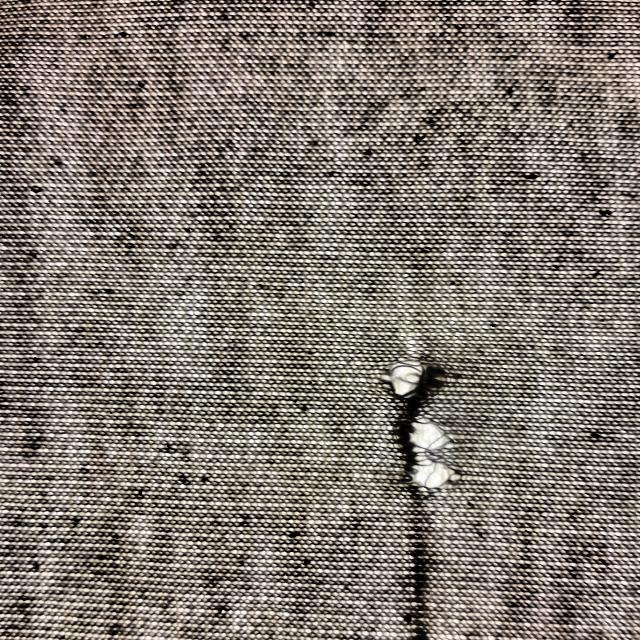Hole: (383, 411, 472, 501), (366, 339, 458, 410)
Stitch: (377, 491, 460, 639)
